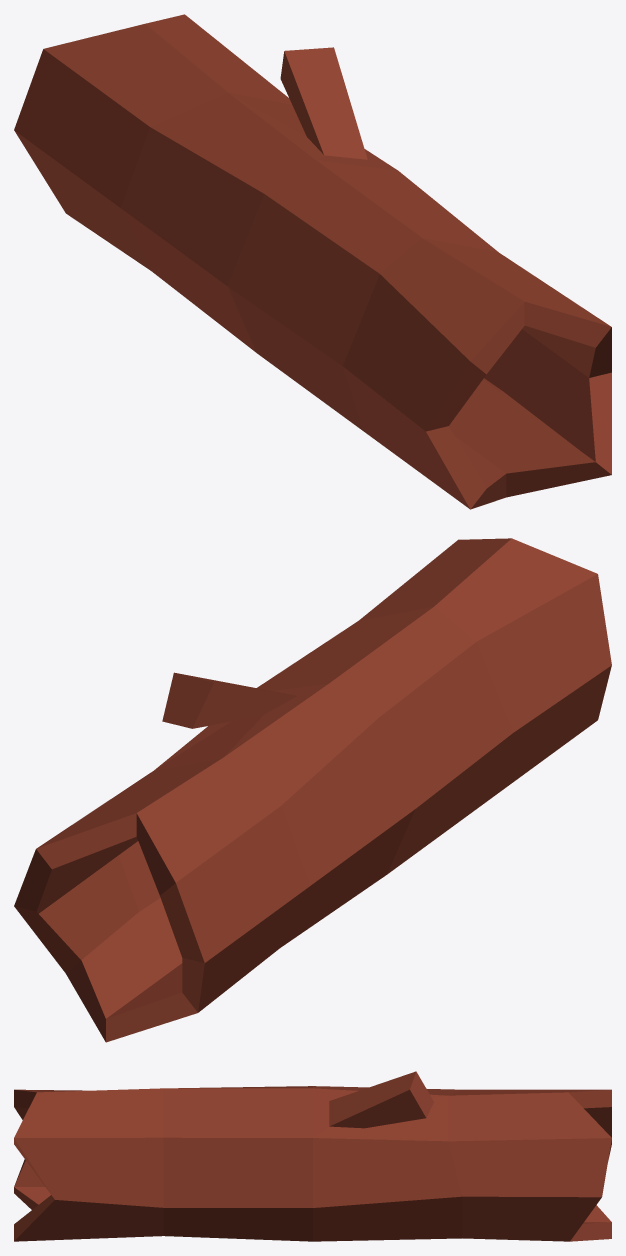
File: log_3a.fbx
3 renders of one model, top to bottom at view 1: azimuth 30°, elevation 25°; view 2: azimuth 150°, elevation 25°; view 3: azimuth 270°, elevation 25°, orthographic. The views are drawn at different scales.
Visible parts, largest first — view 1: log_3a; view 2: log_3a; view 3: log_3a.
Boxes of the visible parts, x1,y1,x2,y2 form: log_3a: (14, 14, 611, 509); log_3a: (14, 538, 611, 1042); log_3a: (14, 1071, 611, 1241).
Bounding box in the file's own units: 53.77 × 64.6 × 197.
